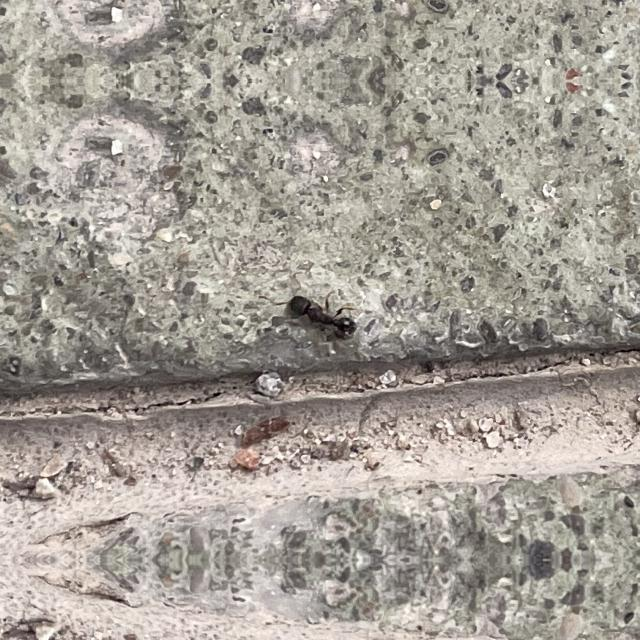Tetramorium: (274, 273, 368, 345)
